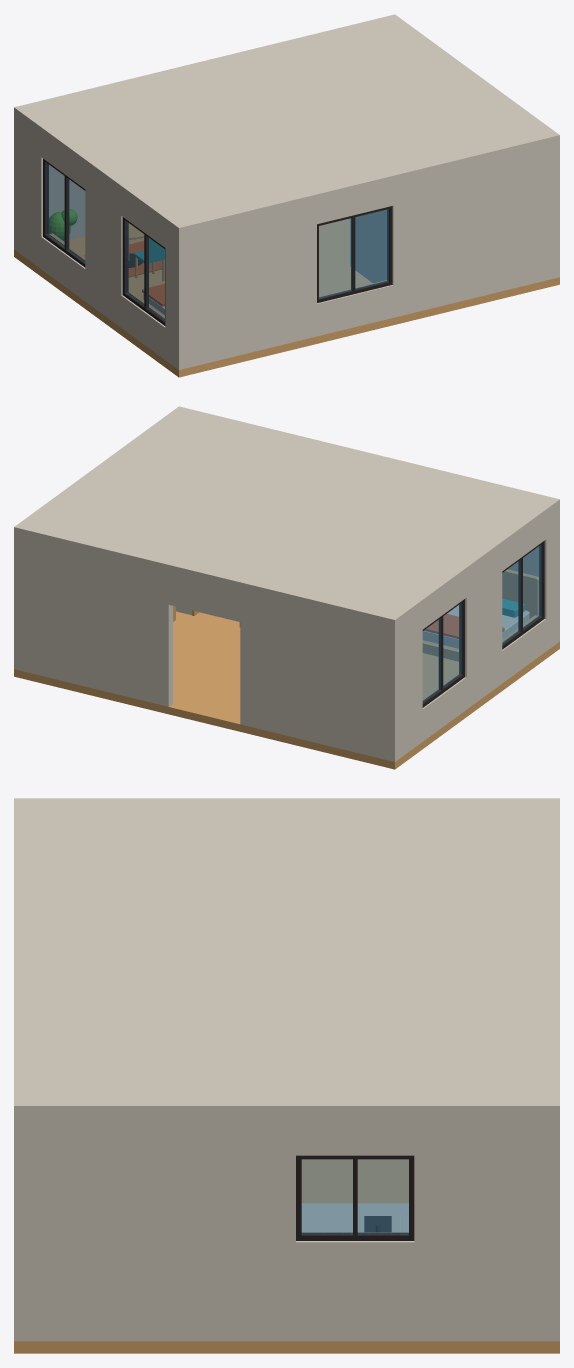
File: apartment-first.gltf
3 renders of one model, top to bottom at view 1: azimuth 30°, elevation 25°; view 2: azimuth 150°, elevation 25°; view 3: azimuth 270°, elevation 25°, orthographic. The views are drawn at different scales.
Visible parts, largest first — view 1: ceiling, wall_n_e, wall_n, floor, wall_w, window_2_glass, wall_w_header, partition_bath_w, wall_w_pillar_1, window_0_glass, window_1_glass, wall_n_sill (+6 smaller); view 2: ceiling, wall_s_a, wall_s_b, floor, wall_w, wall_w_header, wall_w_pillar_1, window_1_glass, window_0_glass, wall_w_pillar_2, wall_s_header, wall_w_pillar_0 (+5 smaller); view 3: ceiling, wall_e, wall_e_s, wall_e_sill, floor, window_3_glass, wall_e_header, wall_n_e, wall_s_b, counter_top, window_3_frame_b.
Part boxes in pixels (x1=…): ceiling: x1=14, y1=14, x2=559, y2=235; wall_n_e: x1=392, y1=144, x2=558, y2=317; wall_n: x1=175, y1=202, x2=316, y2=369; floor: x1=14, y1=218, x2=559, y2=377; wall_w: x1=18, y1=220, x2=185, y2=369; window_2_glass: x1=319, y1=209, x2=388, y2=298; wall_w_header: x1=18, y1=118, x2=184, y2=257; partition_bath_w: x1=350, y1=176, x2=420, y2=312; wall_w_pillar_1: x1=85, y1=189, x2=122, y2=295; window_0_glass: x1=125, y1=221, x2=164, y2=321; window_1_glass: x1=45, y1=162, x2=85, y2=263; wall_n_sill: x1=317, y1=285, x2=393, y2=336; ceiling: x1=14, y1=406, x2=559, y2=627; wall_s_a: x1=240, y1=590, x2=398, y2=761; wall_s_b: x1=21, y1=536, x2=172, y2=706; floor: x1=14, y1=611, x2=559, y2=769; wall_w: x1=388, y1=610, x2=559, y2=761; wall_w_header: x1=388, y1=507, x2=559, y2=649; wall_w_pillar_1: x1=465, y1=572, x2=502, y2=677; window_1_glass: x1=422, y1=603, x2=462, y2=703; window_0_glass: x1=502, y1=544, x2=541, y2=644; wall_w_pillar_2: x1=388, y1=630, x2=422, y2=729; wall_s_header: x1=168, y1=572, x2=240, y2=621; wall_w_pillar_0: x1=544, y1=529, x2=559, y2=618; ceiling: x1=14, y1=798, x2=559, y2=1118; wall_e: x1=14, y1=1118, x2=295, y2=1341; wall_e_s: x1=414, y1=1118, x2=559, y2=1341; wall_e_sill: x1=296, y1=1241, x2=414, y2=1341; floor: x1=14, y1=1159, x2=559, y2=1353; window_3_glass: x1=301, y1=1159, x2=408, y2=1234; wall_e_header: x1=296, y1=1118, x2=414, y2=1155; wall_n_e: x1=14, y1=1118, x2=27, y2=1341; wall_s_b: x1=546, y1=1118, x2=559, y2=1341; counter_top: x1=301, y1=1203, x2=408, y2=1232; window_3_frame_b: x1=296, y1=1232, x2=414, y2=1240.
Bounding box in the file's own units: 8 × 3 × 6.
